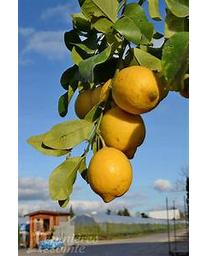lemon: (111, 66, 164, 113), (91, 146, 132, 202), (100, 108, 147, 152)
